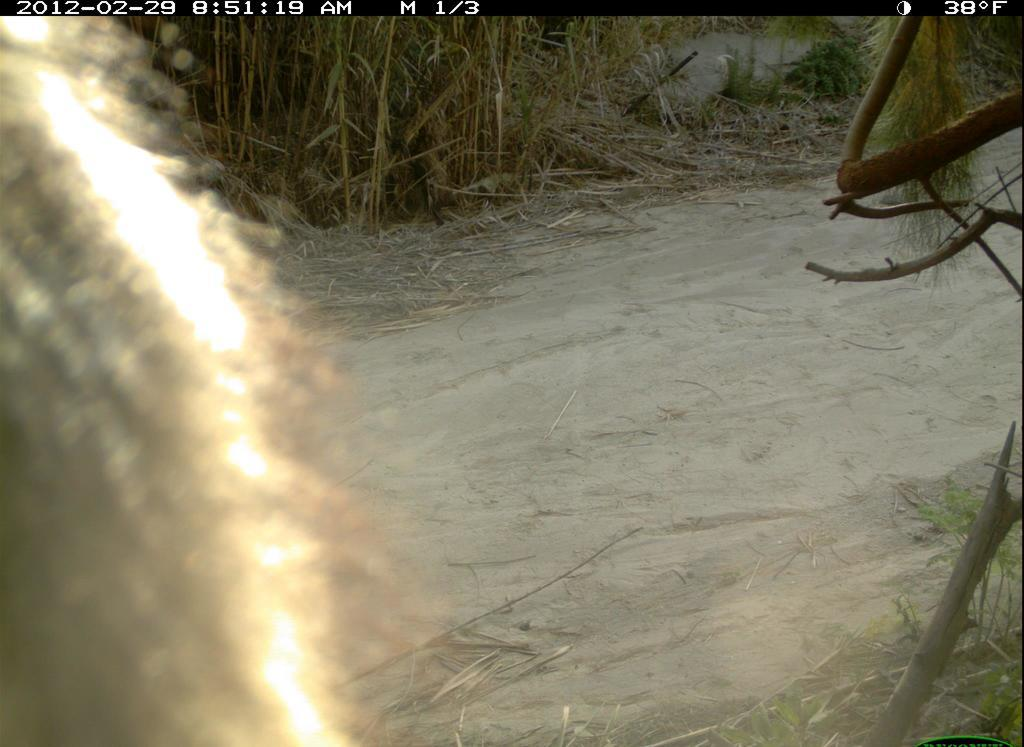coyote: (2, 18, 406, 747)
